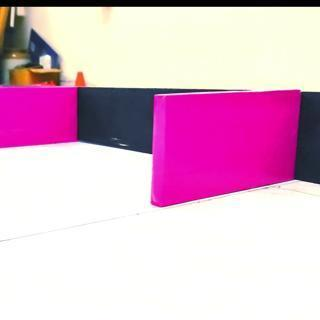xparking: (153, 96, 299, 192), (0, 86, 74, 142)
